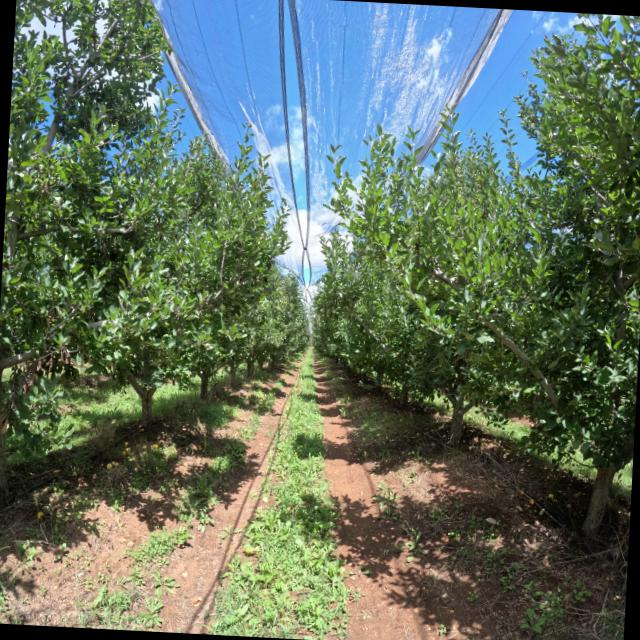-FireBlight-: (10, 346, 70, 410), (40, 180, 50, 200)
